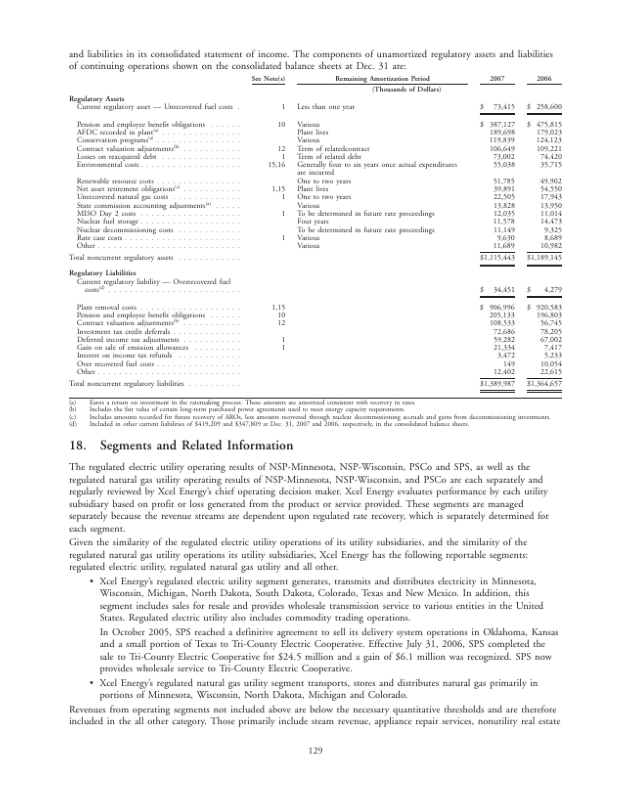table: (298, 77, 469, 249), (525, 76, 564, 270), (247, 74, 289, 246), (478, 74, 515, 266), (524, 285, 565, 397), (475, 282, 515, 394)
